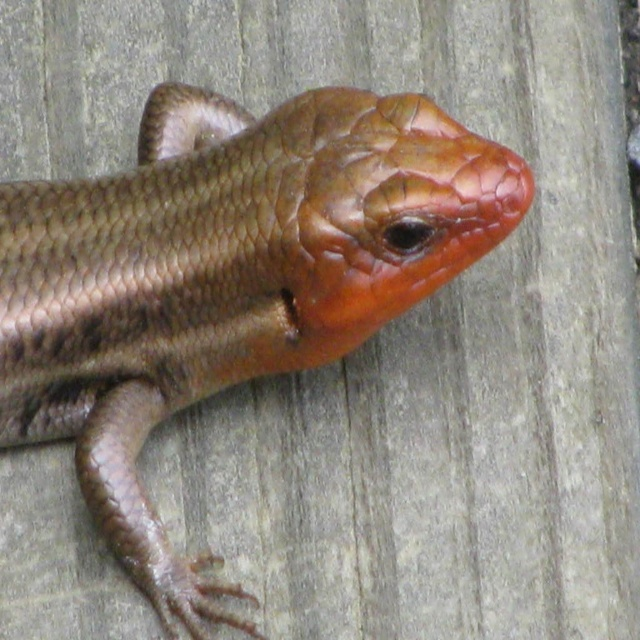Lizard: (0, 79, 535, 640)
